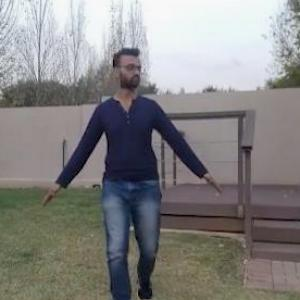land: (43, 50, 222, 299)
